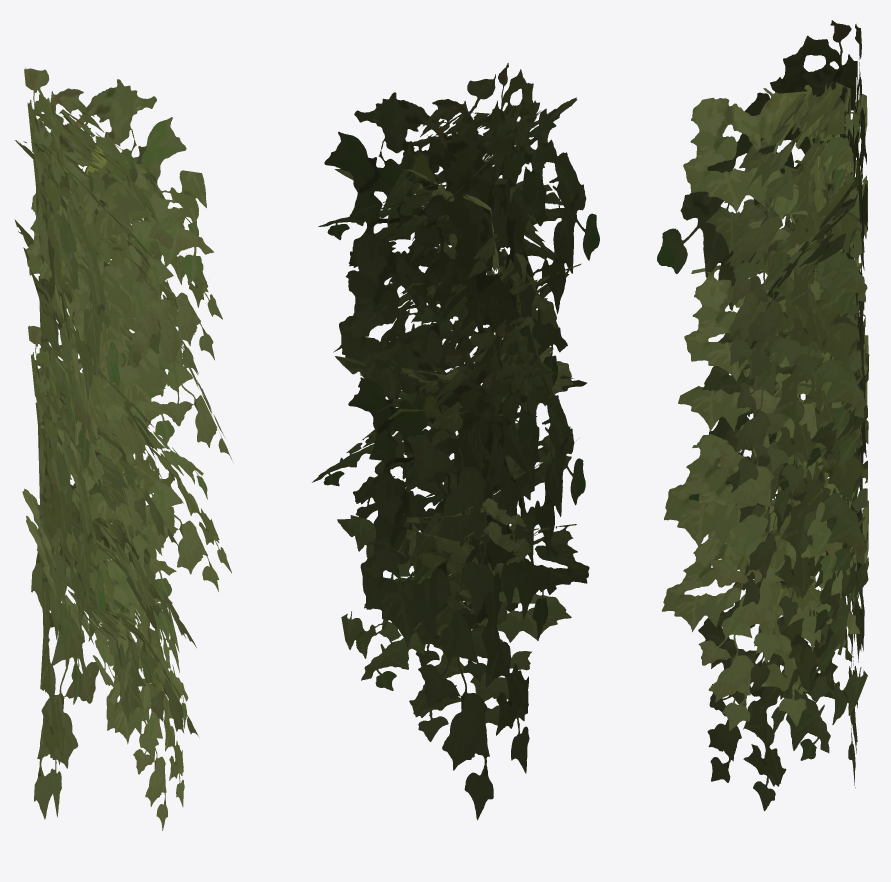
3 views of the same model, side by side, from view 1: azimuth 30°, elevation 25°; view 2: azimuth 150°, elevation 25°; view 3: azimuth 270°, elevation 25° (orthographic).
Parts seen in each view (by area): view 1: body0_model0_lod0_mesh0; view 2: body0_model0_lod0_mesh0; view 3: body0_model0_lod0_mesh0.
Boxes of the visible parts, x1,y1,x2,y2 form: body0_model0_lod0_mesh0: [14, 67, 232, 830]; body0_model0_lod0_mesh0: [312, 63, 599, 820]; body0_model0_lod0_mesh0: [657, 20, 869, 811].
Size of the model in its own units: 36.21 by 126 by 33.61.
1 material, 1 textured.
